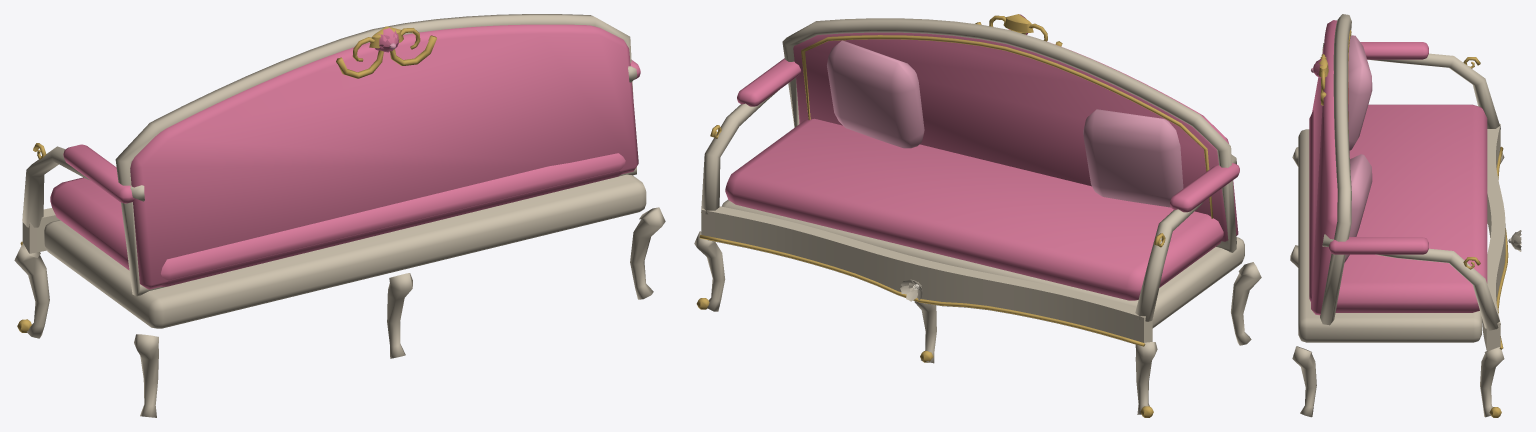
File: settee_rose.glb
The picture shows the model from 3 angles, left to right: view 1: azimuth 30°, elevation 25°; view 2: azimuth 150°, elevation 25°; view 3: azimuth 270°, elevation 25°; orthographic projection. The views are drawn at different scales.
Visible parts, largest first — view 1: settee_rose; view 2: settee_rose; view 3: settee_rose.
Part boxes in pixels (x1=…): settee_rose: x1=14, y1=14, x2=665, y2=417; settee_rose: x1=694, y1=14, x2=1261, y2=417; settee_rose: x1=1290, y1=14, x2=1521, y2=417.
Size of what is drawn, in the model's own units: 1.7 by 1 by 0.8.
